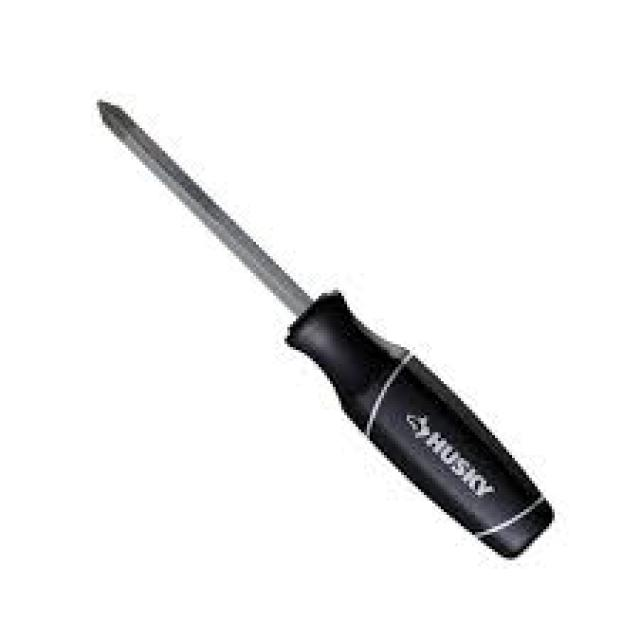Screwdriver: (101, 102, 555, 559)
